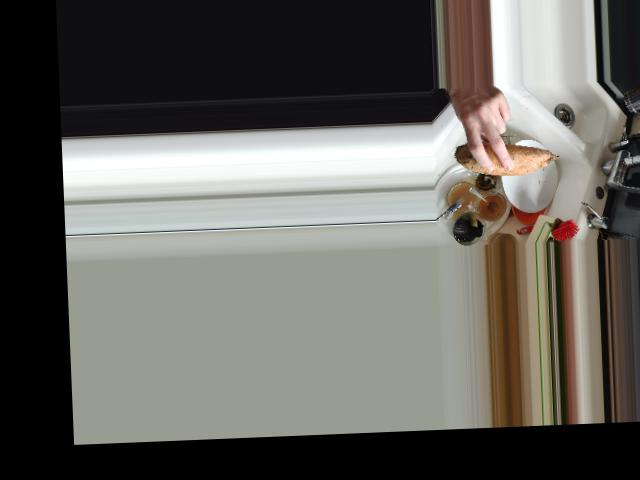sweet_potato: (450, 134, 564, 177)
